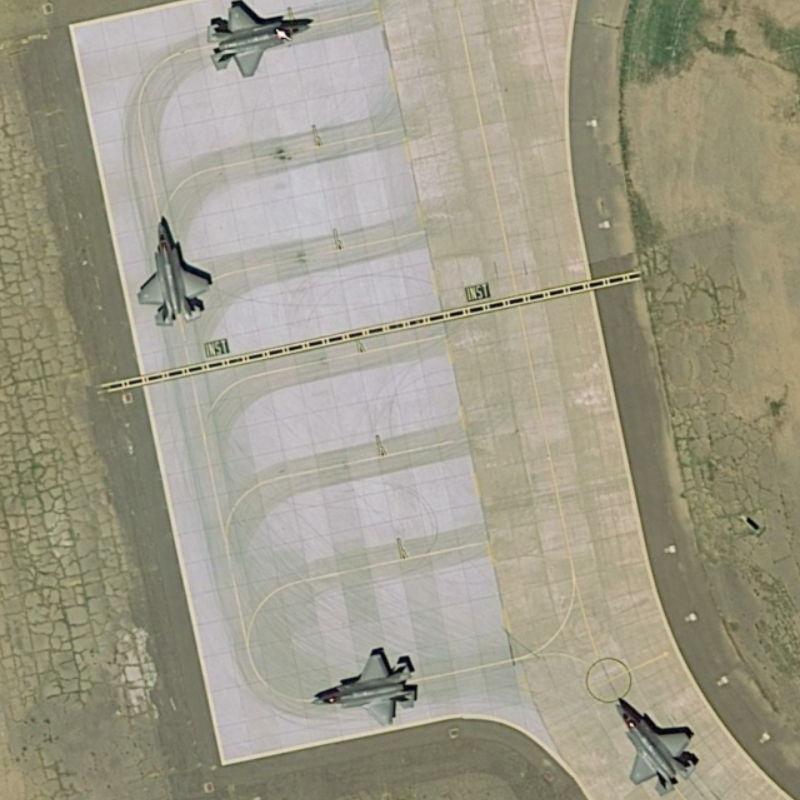A15: (291, 644, 426, 733), (608, 692, 705, 797), (131, 216, 218, 332), (202, 1, 313, 86)
